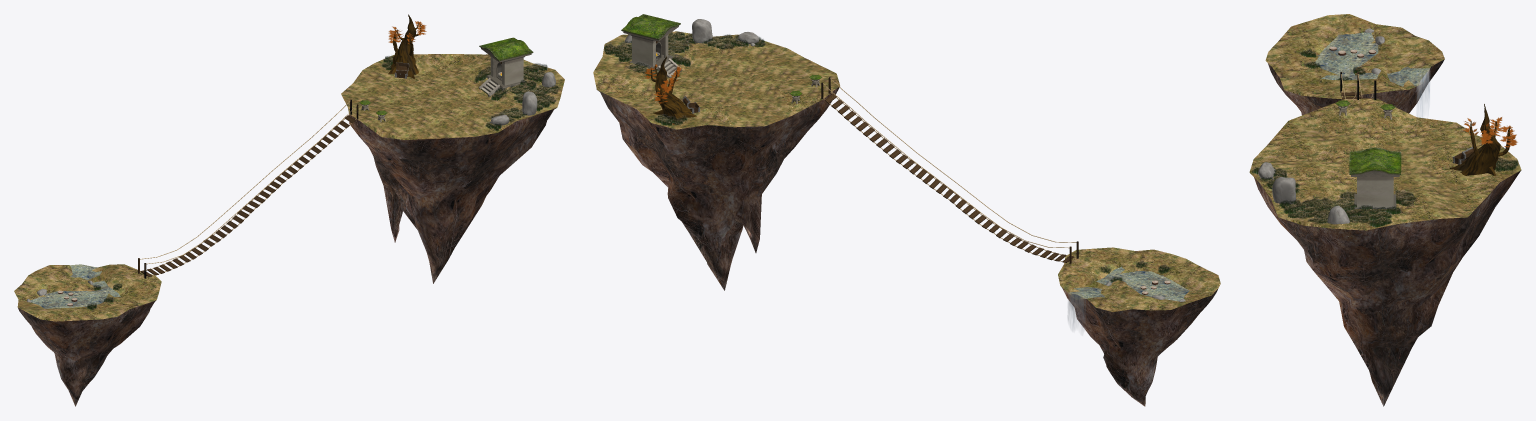
File: diorama_floating_islands__shrine.glb
3 renders of one model, left to right at view 1: azimuth 30°, elevation 25°; view 2: azimuth 150°, elevation 25°; view 3: azimuth 270°, elevation 25°, orthographic. The views are drawn at different scales.
Parts seen in each view (by area): view 1: pDisc1, pasted__pDisc1, pasted__pasted__pasted__pasted__pasted__pasted__pasted__past, polySurface7, pDisc5, SM_Tree_4:polySurface28; view 2: pDisc1, pasted__pDisc1, pasted__pasted__pasted__pasted__pasted__pasted__pasted__past, polySurface7, pDisc5, SM_Tree_4:polySurface28; view 3: pDisc1, pasted__pDisc1, pDisc5, polySurface7, SM_Tree_4:polySurface28, pCube4, pCube5.
Boxes of the visible parts, x1,y1,x2,y2 form: pDisc1: [341, 54, 564, 283]; pasted__pDisc1: [14, 264, 161, 406]; pasted__pasted__pasted__pasted__pasted__pasted__pasted__past: [140, 100, 356, 277]; polySurface7: [478, 37, 533, 96]; pDisc5: [31, 264, 120, 308]; SM_Tree_4:polySurface28: [388, 14, 422, 78]; pDisc1: [593, 31, 839, 290]; pasted__pDisc1: [1058, 247, 1220, 406]; pasted__pasted__pasted__pasted__pasted__pasted__pasted__past: [823, 78, 1076, 262]; polySurface7: [621, 14, 681, 77]; pDisc5: [1068, 267, 1189, 329]; SM_Tree_4:polySurface28: [649, 56, 696, 124]; pDisc1: [1249, 98, 1521, 406]; pasted__pDisc1: [1265, 14, 1444, 115]; pDisc5: [1315, 32, 1430, 117]; polySurface7: [1349, 147, 1401, 209]; SM_Tree_4:polySurface28: [1449, 104, 1515, 175]; pCube4: [1272, 177, 1295, 203]; pCube5: [1327, 205, 1349, 224].
Bounding box in the file's own units: 1.36 × 0.6288 × 0.4515.
Materials: 17 (17 with a texture image).
